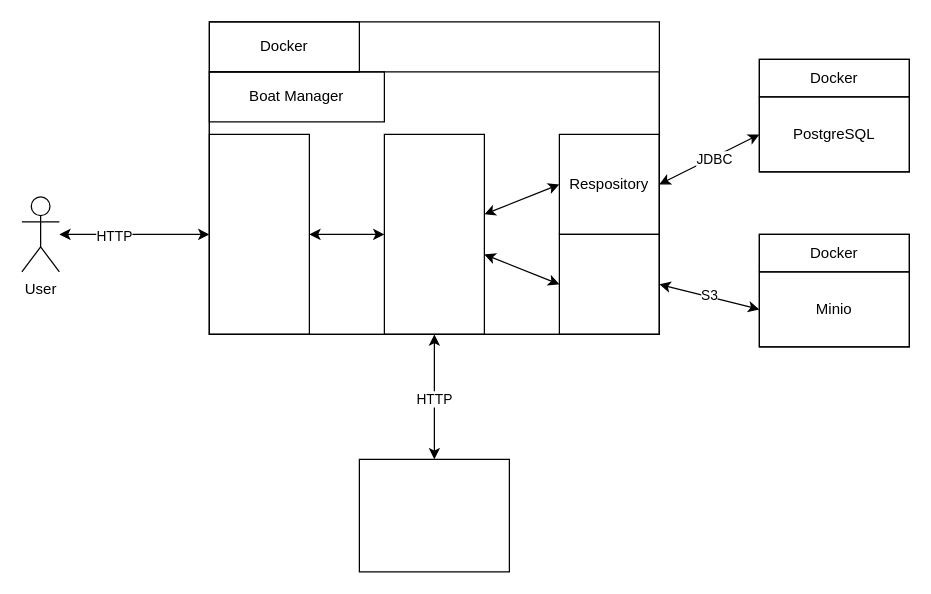
The diagram is 931 pixels wide and 594 high, and some of its shapes have lost their labels. Here are the shapes that lost their labels. From the top down, the centre of each, then its label:
At [258,233]: "Rest API".
At [433,233]: "Services".
At [608,283]: "MinioClient".
At [433,515]: "Boat Information API".
